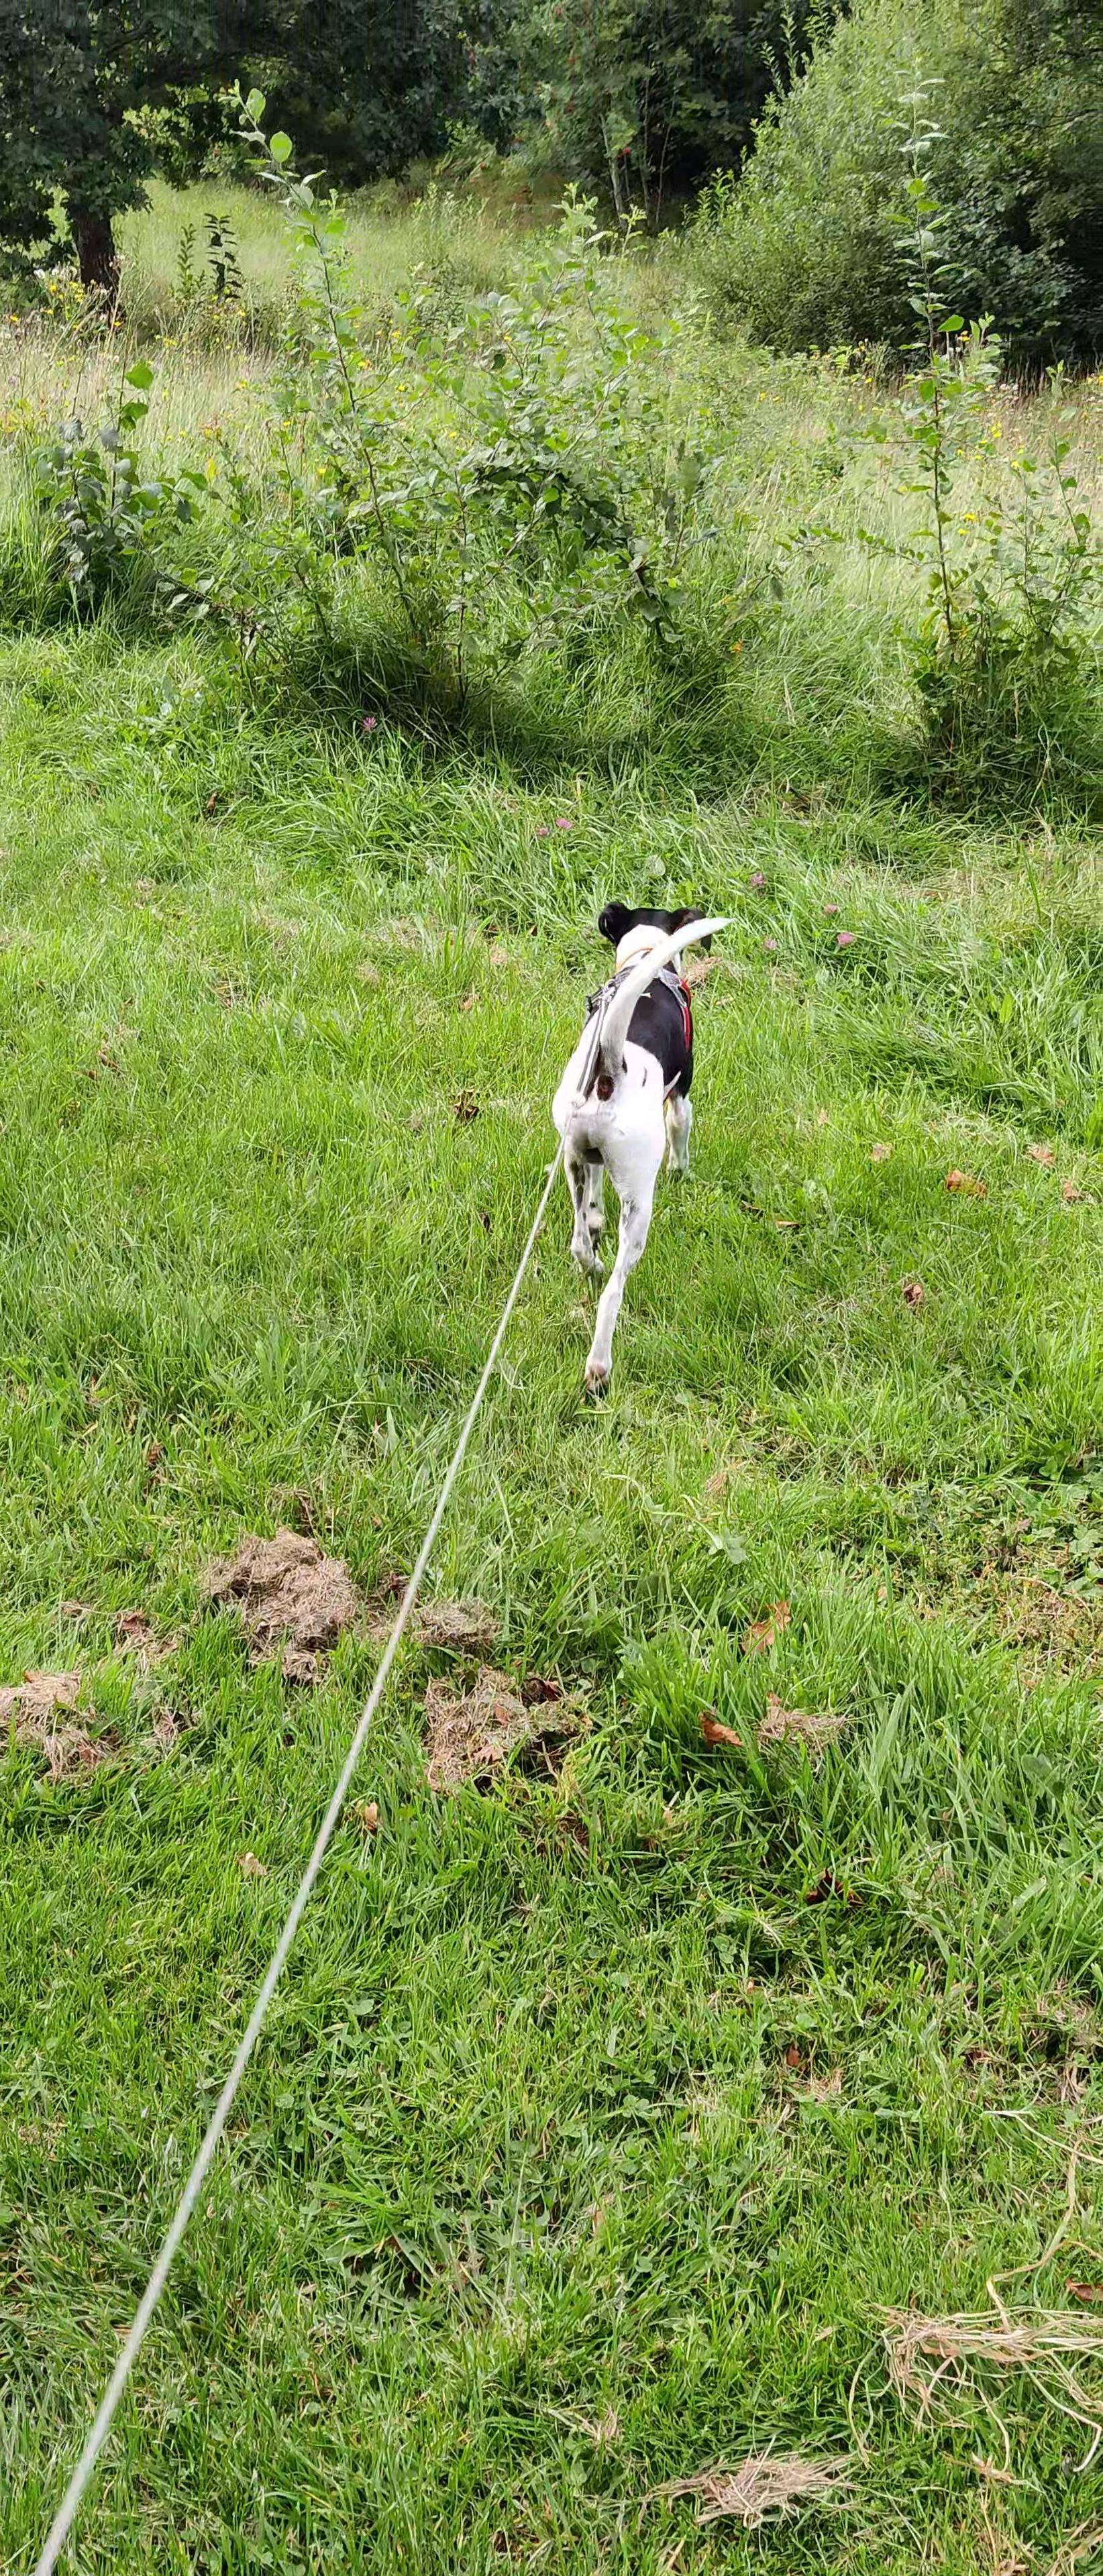Dog: (544, 872, 745, 1405)
